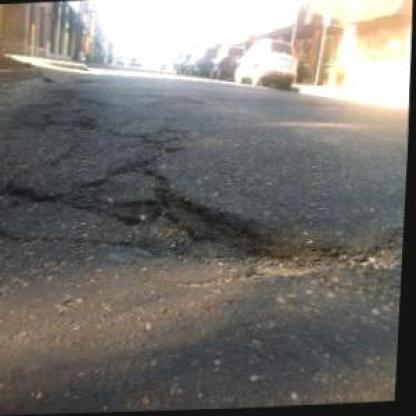pothole: (121, 178, 330, 287), (341, 238, 405, 278)
